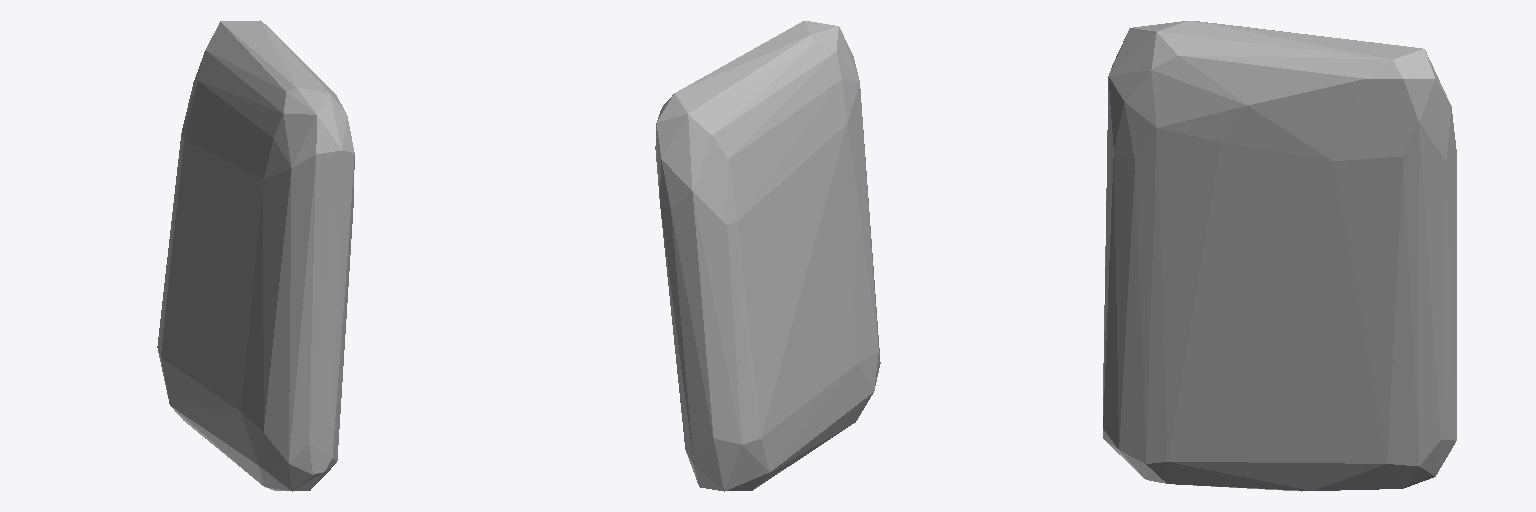
robot.urdf — root:
<robot name="root">
  <link name="link_ycb~026_sponge_convex_piece_0">
    <inertial>
      <origin xyz="0 0 0" rpy="0 0 0"/>
      <mass value="5.05E-01"/>
      <inertia ixx="6.14E-04" ixy="-1.32E-05" ixz="-4.03E-05" iyy="4.45E-04" iyz="2.46E-06" izz="2.18E-04"/>
    </inertial>
    <visual>
      <origin xyz="0 0 0" rpy="0 0 0"/>
      <geometry>
        <mesh filename="ycb~026_sponge_convex_piece_0.obj" scale="1.0000E+00 1.0000E+00 1.0000E+00"/>
      </geometry>
      <material name="">
        <color rgba="7.50E-01 7.50E-01 7.50E-01 1"/>
      </material>
    </visual>
    <collision>
      <origin xyz="0 0 0" rpy="0 0 0"/>
      <geometry>
        <mesh filename="ycb~026_sponge_convex_piece_0.obj" scale="1.0000E+00 1.0000E+00 1.0000E+00"/>
      </geometry>
    </collision>
  </link>
</robot>

--- Render facts (derived) ---
The picture shows the robot from 3 angles, left to right: view 1: azimuth 30°, elevation 25°; view 2: azimuth 150°, elevation 25°; view 3: azimuth 270°, elevation 25°; orthographic projection.
Robot: root — 1 links, 0 joints (none); root link link_ycb~026_sponge_convex_piece_0; default pose: every joint at zero.
Links seen in each view (by area): view 1: link_ycb~026_sponge_convex_piece_0; view 2: link_ycb~026_sponge_convex_piece_0; view 3: link_ycb~026_sponge_convex_piece_0.
Boxes of the visible links, left/top/right/bottom form: link_ycb~026_sponge_convex_piece_0: left=157, top=20, right=354, bottom=491; link_ycb~026_sponge_convex_piece_0: left=655, top=21, right=880, bottom=491; link_ycb~026_sponge_convex_piece_0: left=1103, top=21, right=1456, bottom=491.
Bounding box of the posed robot: 0.0318 × 0.0749 × 0.109 m (x, y, z).
Meshes: 1 distinct files referenced, 1 mesh visuals loaded (1 OBJ).